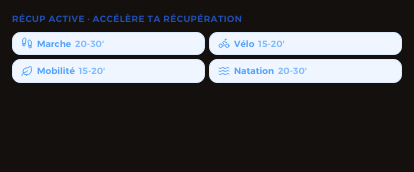
Test: InlineActiveRecovery › selecting an activity reveals detail line and Fait ✓ button
Click the button with test id "ar-activity-walk": x=108, y=43 [12,32,205,55]
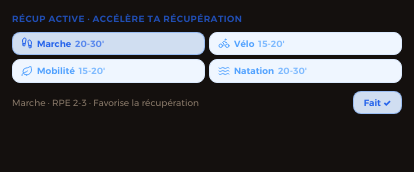
Expected: the button with test id "ar-complete-btn" is shown, [353,90,402,114]
Expected: the text "RPE 2-3" is shown, [46,96,199,108]
